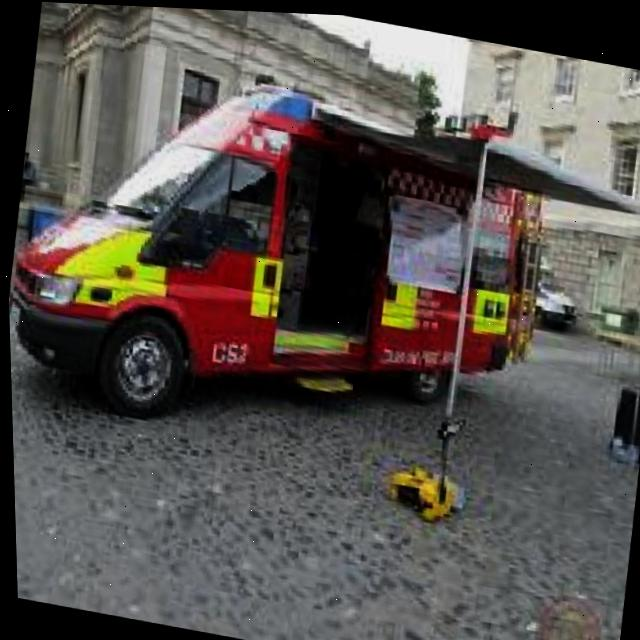emergency: (0, 3, 587, 487)
